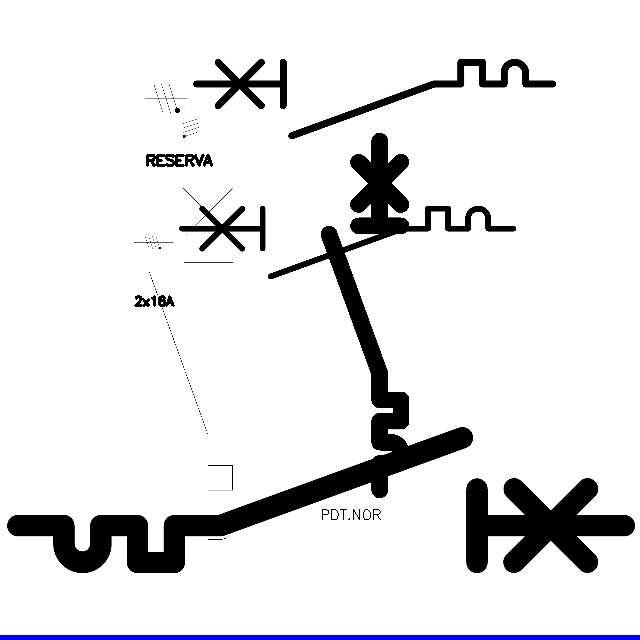interruptor_termomagnetico: (2, 422, 640, 578), (139, 153, 243, 580), (187, 53, 562, 144), (320, 132, 410, 499), (173, 200, 522, 285)
